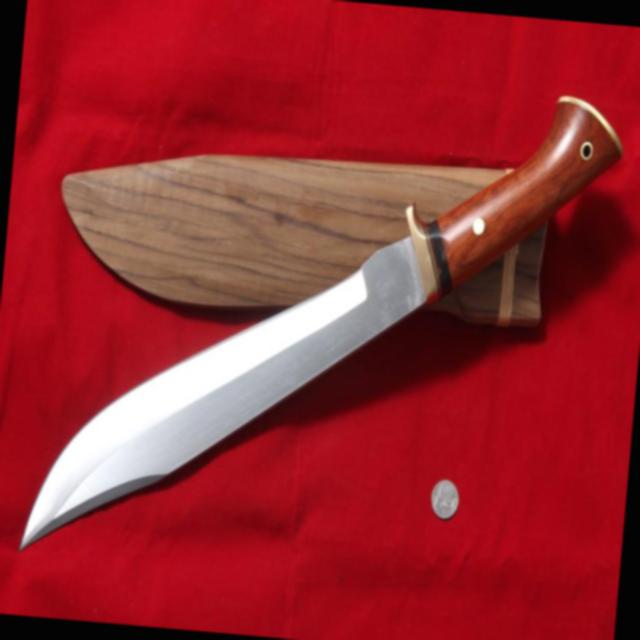short sword: (10, 41, 631, 607)
